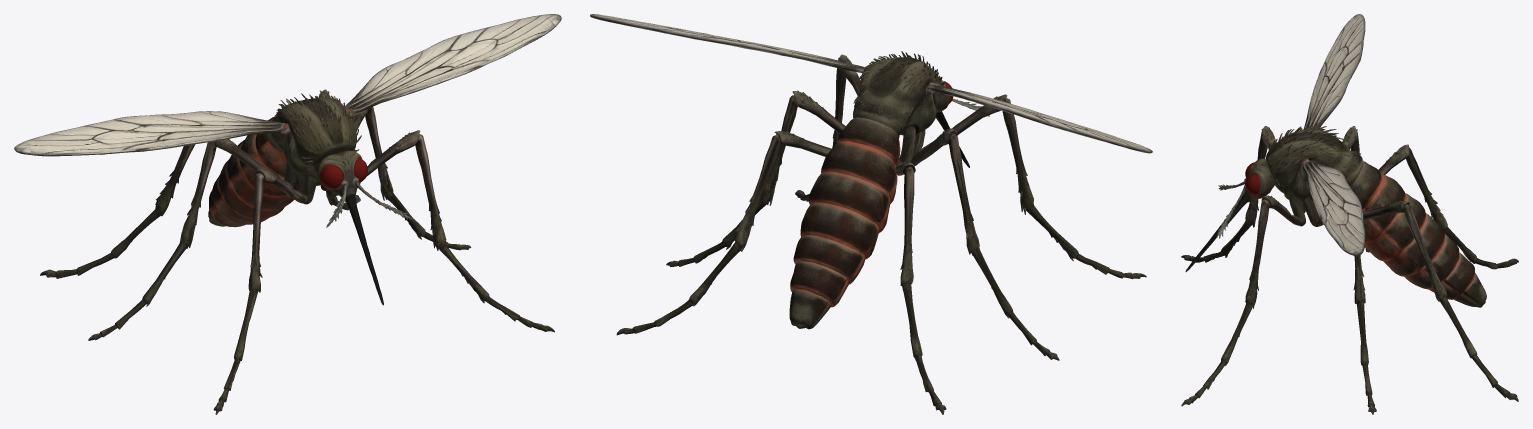
File: skeeter.glb
The picture shows the model from 3 angles, left to right: view 1: azimuth 30°, elevation 25°; view 2: azimuth 150°, elevation 25°; view 3: azimuth 270°, elevation 25°; orthographic projection. The views are drawn at different scales.
Size of the model in its own units: 1.9 by 0.7456 by 1.13.
1 material, 1 textured.
